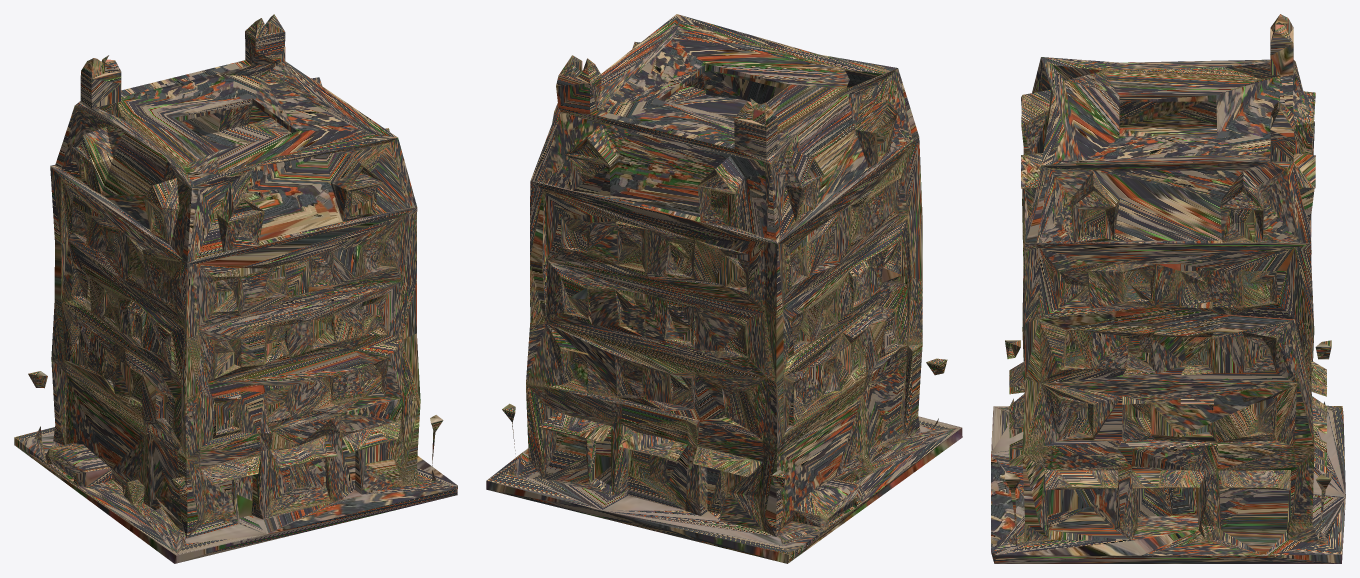
Rendered from town_shops_offices.glb.
The picture shows the model from 3 angles, left to right: view 1: azimuth 30°, elevation 25°; view 2: azimuth 150°, elevation 25°; view 3: azimuth 270°, elevation 25°; orthographic projection. The views are drawn at different scales.
Visible parts, largest first — view 1: normalize; view 2: normalize; view 3: normalize.
Part boxes in pixels (<box>): normalize: <box>14,14,457,563</box>; normalize: <box>486,14,962,563</box>; normalize: <box>991,14,1345,563</box>.
Bounding box in the file's own units: 1 × 1.32 × 0.995.
Materials: 1 (1 with a texture image).
